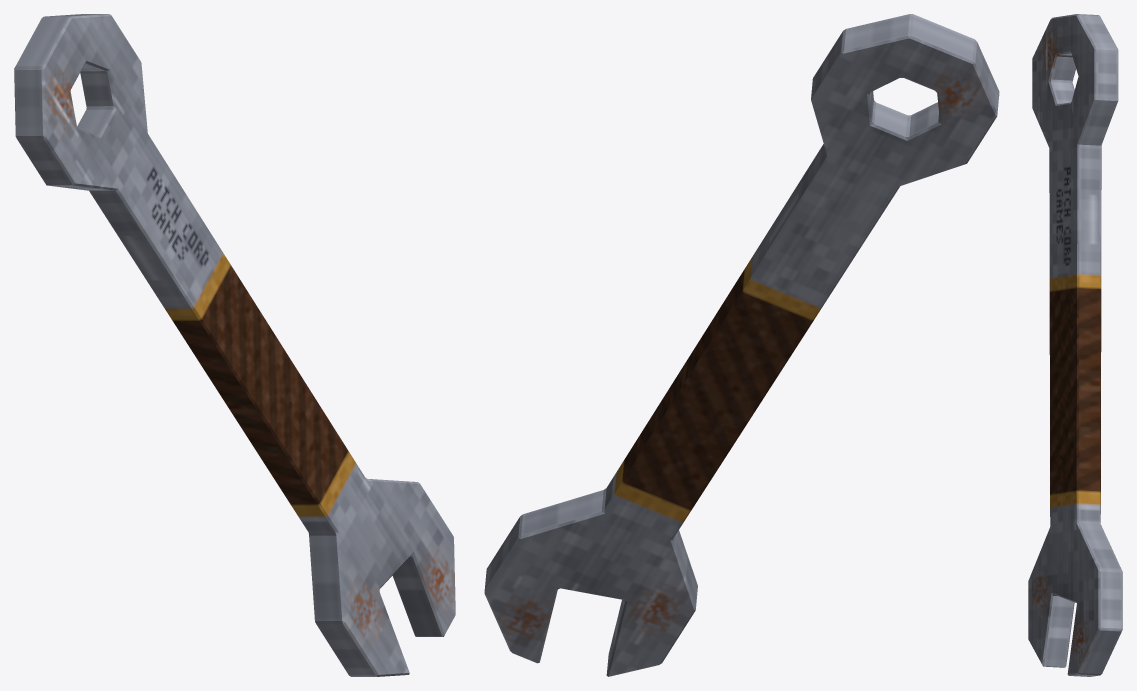
The model's file is A_Wrench_Equip.fbx.
3 views of the same model, side by side, from view 1: azimuth 30°, elevation 25°; view 2: azimuth 150°, elevation 25°; view 3: azimuth 270°, elevation 25° (orthographic). The views are drawn at different scales.
Parts seen in each view (by area): view 1: Wrench; view 2: Wrench; view 3: Wrench.
Boxes of the visible parts, <box> form: Wrench: <box>14,14,455,676</box>; Wrench: <box>484,14,999,676</box>; Wrench: <box>1028,14,1122,676</box>.
Bounding box in the file's own units: 12.98 × 3.04 × 19.26.
1 material, 1 textured.
